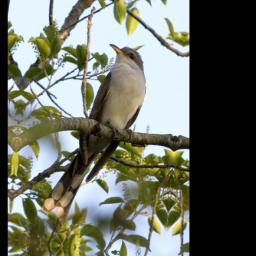Cuckoo: (42, 37, 150, 228)
